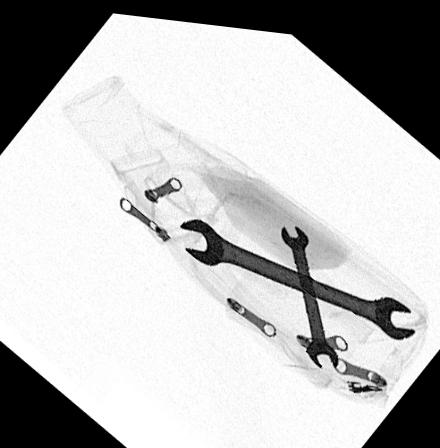Wrench: (178, 212, 414, 328), (278, 214, 339, 361)
